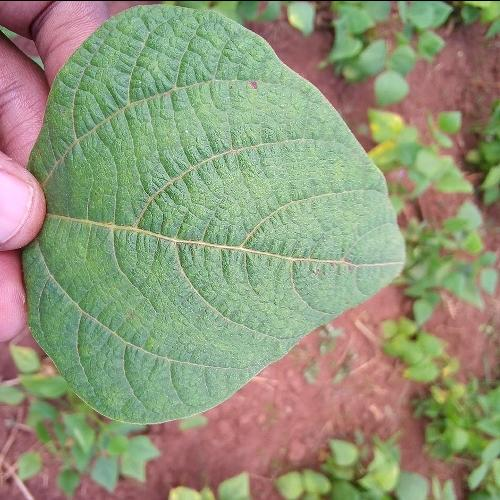hawar: (309, 240, 356, 282), (242, 76, 264, 95)
sehat: (91, 118, 307, 218)
